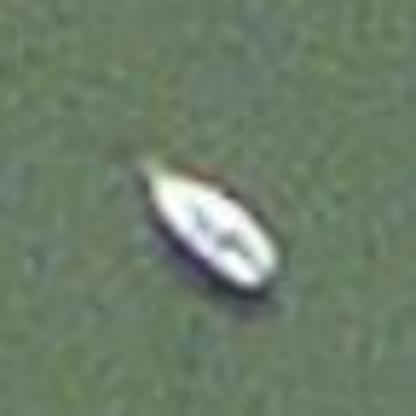ship: (108, 126, 297, 310)
